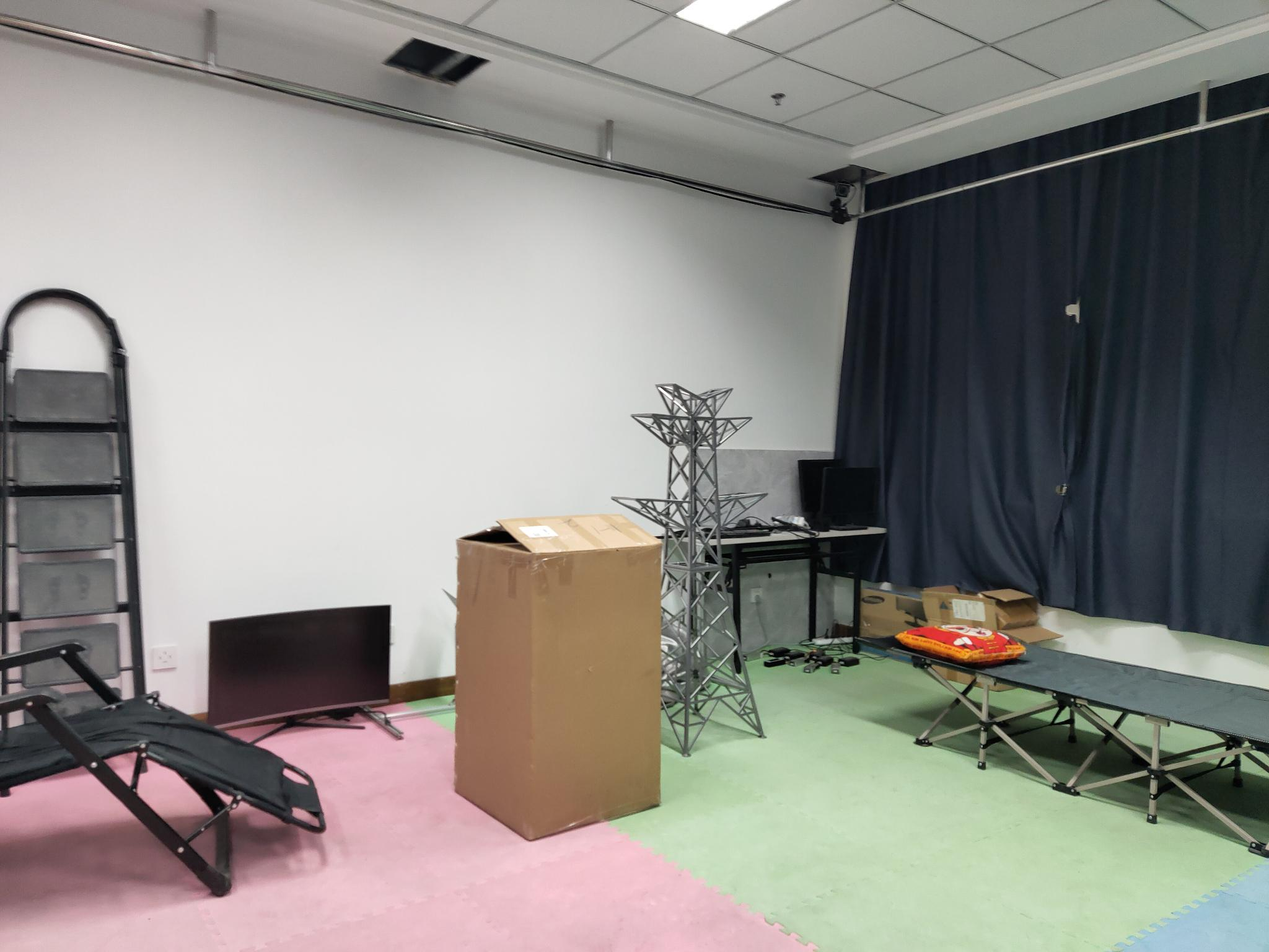tower: (610, 381, 769, 739)
